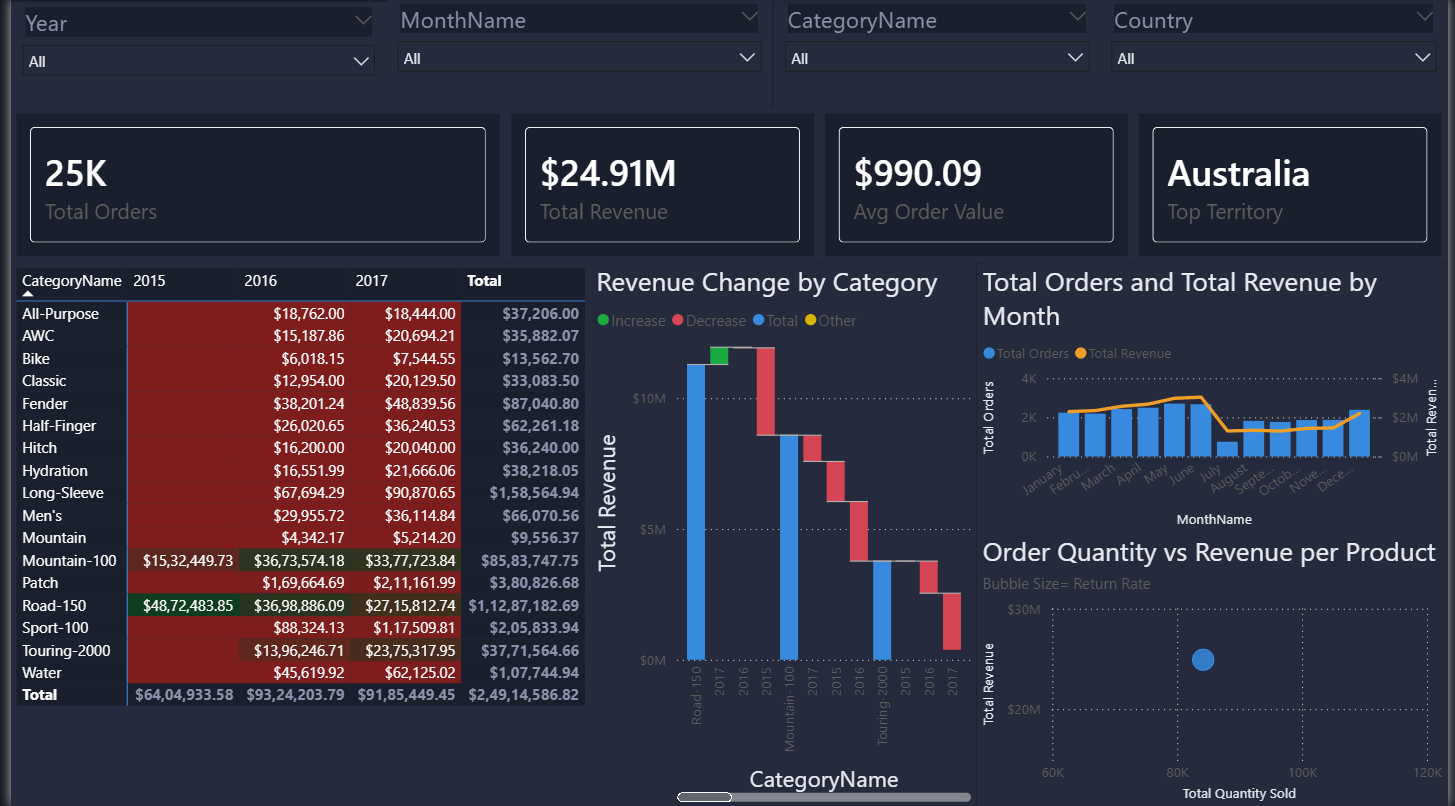

What the dashboard file says about the page in this screenshot:
{"tool":"powerbi","page":{"name":"Sales Deep Dive","canvas":[1280,720],"ordinal":1},"visuals":[{"type":"cardVisual","fields":{"Data":["table_measure.Avg Order Value"]},"box":[720.2,98.2,279.8,137.4],"z":0},{"type":"cardVisual","fields":{"Data":["table_measure.Total Revenue"]},"box":[440.5,98.2,279.8,137.4],"z":1000},{"type":"cardVisual","title":"Total Orders","fields":{"Data":["table_measure.Total Orders"]},"box":[0,98.2,440.5,137.4],"z":2000},{"type":"cardVisual","fields":{"Data":["table_measure.Top Territory"]},"box":[1000,98.2,279.8,137.4],"z":3000},{"type":"slicer","fields":{"Values":["gold extcalendar.Year"]},"box":[0,2.9,334.3,95.7],"z":4000},{"type":"slicer","fields":{"Values":["gold extcalendar.MonthName"]},"box":[334.3,0,344.3,98.6],"z":5000},{"type":"slicer","fields":{"Values":["gold extsubcategories.CategoryName"]},"box":[678.6,0,291.4,98.6],"z":6000},{"type":"lineClusteredColumnComboChart","title":"Total Orders and Total Revenue by Month","fields":{"Y":["table_measure.Total Orders"],"Y2":["table_measure.Total Revenue"],"Category":["gold extcalendar.MonthName"]},"box":[860.1,235.6,419.6,240.5],"z":7000},{"type":"waterfallChart","title":"Revenue Change by Category","fields":{"Y":["table_measure.Total Revenue"],"Breakdown":["gold extcalendar.Year"],"Category":["gold extsubcategories.CategoryName"]},"box":[516.6,235.6,343.6,484.7],"z":9000},{"type":"scatterChart","title":"Order Quantity vs Revenue per Product","fields":{"X":["table_measure.Total Quantity Sold"],"Y":["table_measure.Total Revenue"],"Size":["table_measure.Return Rate"]},"box":[860.1,476.1,419.6,244.2],"z":10000},{"type":"slicer","fields":{"Values":["gold extterritories.Country"]},"box":[970,0,310,98.6],"z":11000},{"type":"pivotTable","fields":{"Columns":["gold extcalendar.Year"],"Values":["table_measure.Total Revenue"],"Rows":["gold extsubcategories.CategoryName"]},"box":[0,235.6,516.6,484.7],"z":11001}]}

Visuals, with their boxes in screenshot pixels (x1, y1, x2, y2), scaled from the page's 1280x720 canvas onto the 1455x806 screenshot:
cardVisual - table_measure.Avg Order Value: pyautogui.locateOnScreen(819, 110, 1137, 264)
cardVisual - table_measure.Total Revenue: pyautogui.locateOnScreen(501, 110, 819, 264)
"Total Orders" cardVisual: pyautogui.locateOnScreen(0, 110, 501, 264)
cardVisual - table_measure.Top Territory: pyautogui.locateOnScreen(1137, 110, 1454, 264)
slicer - gold extcalendar.Year: pyautogui.locateOnScreen(0, 3, 380, 110)
slicer - gold extcalendar.MonthName: pyautogui.locateOnScreen(380, 0, 771, 110)
slicer - gold extsubcategories.CategoryName: pyautogui.locateOnScreen(771, 0, 1103, 110)
"Total Orders and Total Revenue by Month" lineClusteredColumnComboChart: pyautogui.locateOnScreen(978, 264, 1454, 533)
"Revenue Change by Category" waterfallChart: pyautogui.locateOnScreen(587, 264, 978, 805)
"Order Quantity vs Revenue per Product" scatterChart: pyautogui.locateOnScreen(978, 533, 1454, 805)
slicer - gold extterritories.Country: pyautogui.locateOnScreen(1103, 0, 1454, 110)
pivotTable - gold extcalendar.Year x table_measure.Total Revenue: pyautogui.locateOnScreen(0, 264, 587, 805)
